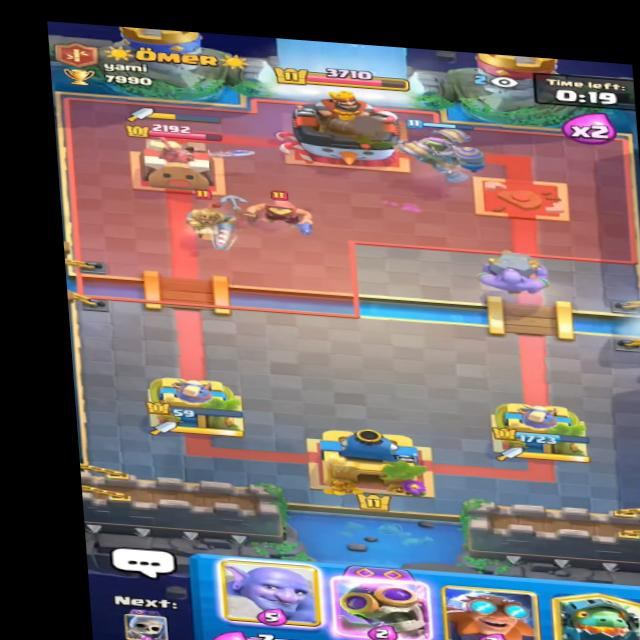Fisherman: (231, 184, 312, 236)
Prince: (177, 198, 243, 254)
